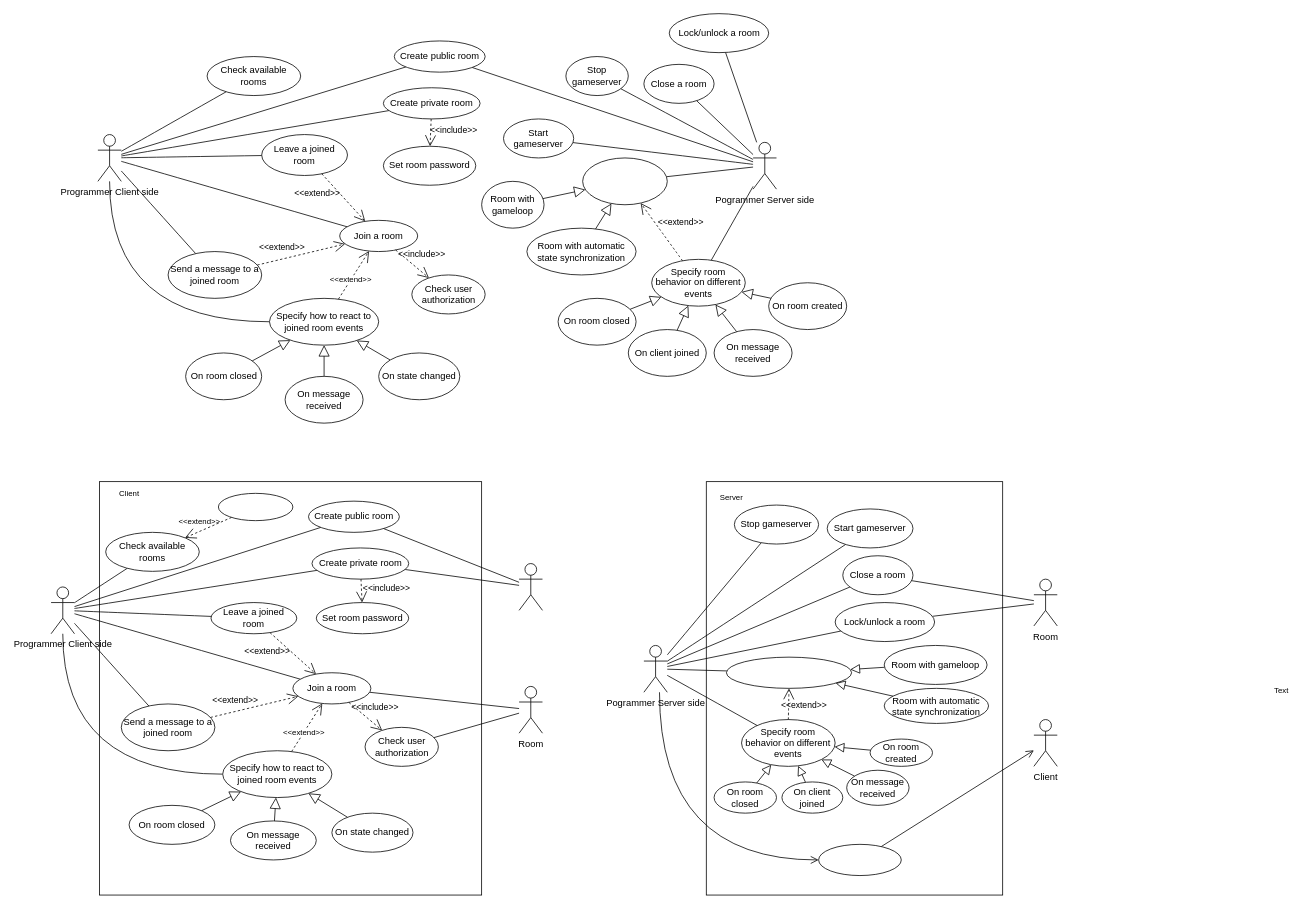
The diagram is 1306 pixels wide and 909 high, and some of its shapes have lost their labels. The shapes that lost their labels are listed below. From the top down, each one's centre as x and y in pixels, then its label:
(624,181): Define room type
(255,507): Filter rooms
(530,586): GameServer
(789,672): Define a new type of room
(859,860): Send message to clients
